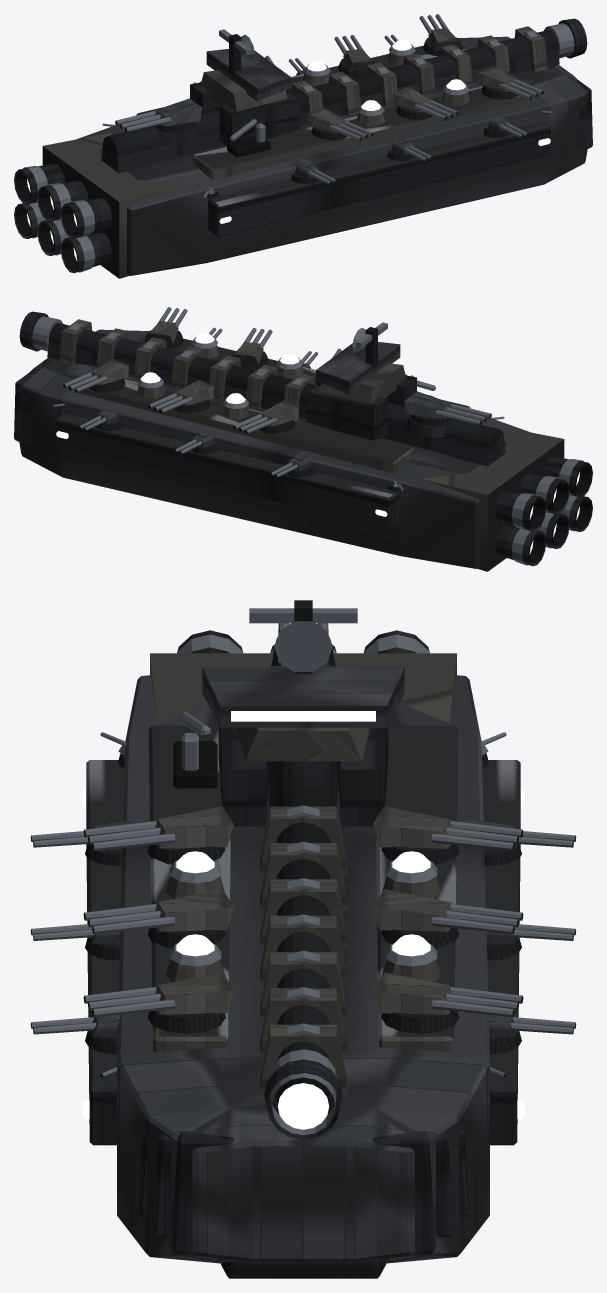
Rendered from battleship.glb.
3 views of the same model, one above another, from view 1: azimuth 30°, elevation 25°; view 2: azimuth 150°, elevation 25°; view 3: azimuth 270°, elevation 25° (orthographic). The views are drawn at different scales.
Parts seen in each view (by area): view 1: hull_body, weapon_mounts, engine_block, sensor_tower, shield_domes; view 2: hull_body, weapon_mounts, engine_block, sensor_tower, shield_domes; view 3: hull_body, weapon_mounts, sensor_tower, engine_block, shield_domes.
Part boxes in pixels (bbox=[...]): hull_body: bbox=[77, 36, 592, 275]; weapon_mounts: bbox=[101, 14, 587, 199]; engine_block: bbox=[14, 132, 184, 278]; sensor_tower: bbox=[190, 29, 300, 145]; shield_domes: bbox=[303, 39, 470, 126]; hull_body: bbox=[14, 329, 529, 568]; weapon_mounts: bbox=[19, 307, 505, 492]; engine_block: bbox=[422, 425, 592, 571]; sensor_tower: bbox=[306, 322, 416, 440]; shield_domes: bbox=[136, 332, 303, 419]; hull_body: bbox=[82, 675, 524, 1278]; weapon_mounts: bbox=[30, 623, 576, 1139]; sensor_tower: bbox=[202, 600, 404, 826]; engine_block: bbox=[150, 630, 456, 722]; shield_domes: bbox=[166, 851, 440, 982].
Size of the model in its own units: 60 by 19.7 by 26.65.
Materials: 1 (1 with a texture image).
